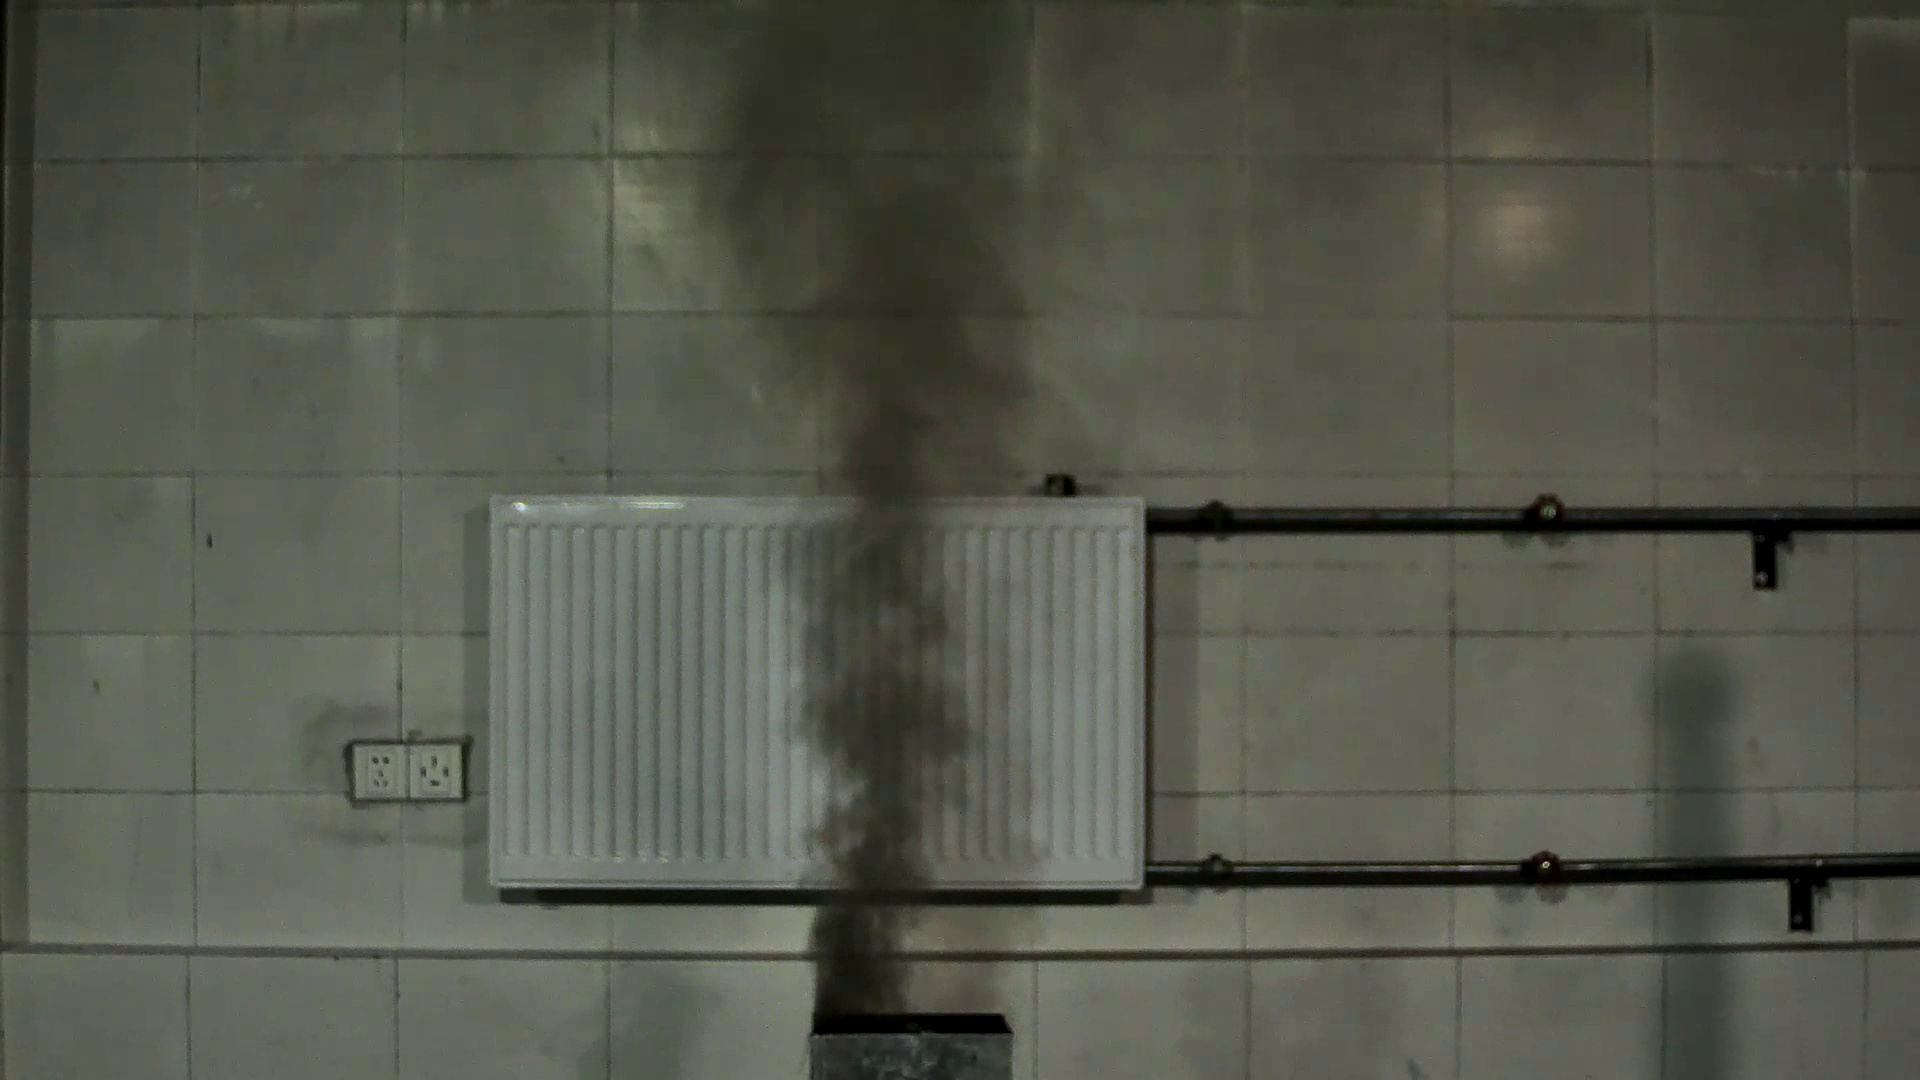smoke: (692, 128, 1052, 1015)
